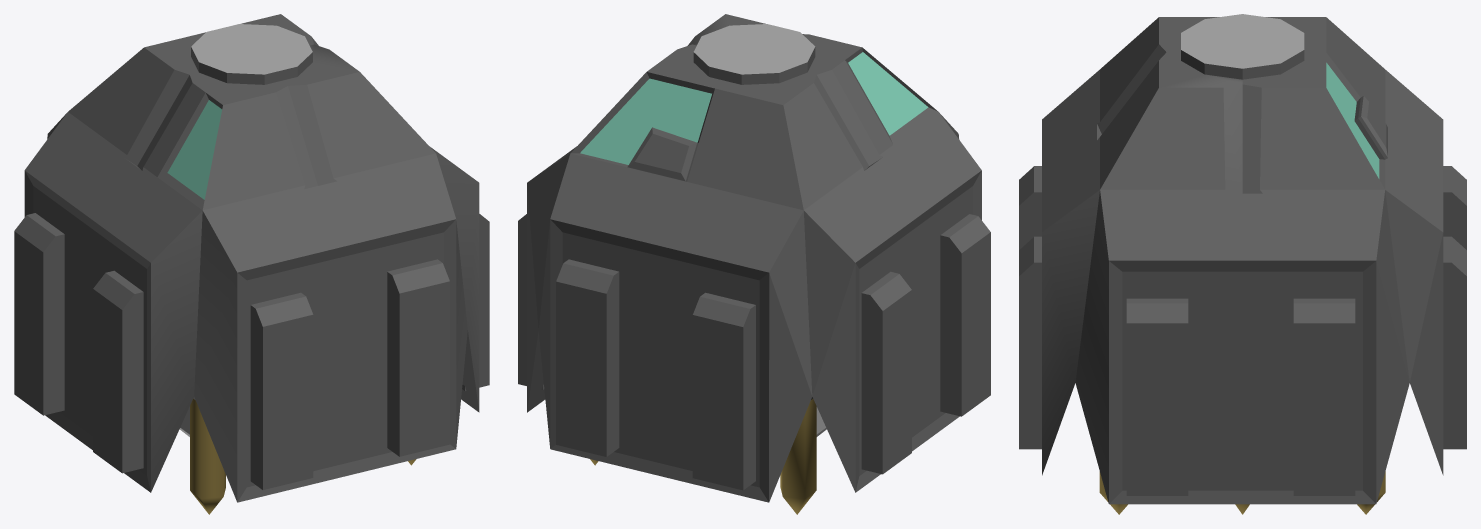
The model's file is FalsePlug1.fbx.
3 renders of one model, left to right at view 1: azimuth 30°, elevation 25°; view 2: azimuth 150°, elevation 25°; view 3: azimuth 270°, elevation 25°, orthographic. The views are drawn at different scales.
Visible parts, largest first — view 1: FalsePlug1; view 2: FalsePlug1; view 3: FalsePlug1.
Boxes of the visible parts, x1,y1,x2,y2 form: FalsePlug1: [14, 14, 489, 514]; FalsePlug1: [518, 14, 990, 514]; FalsePlug1: [1019, 14, 1466, 514].
Size of the model in its own units: 13.43 by 13.97 by 13.45.
